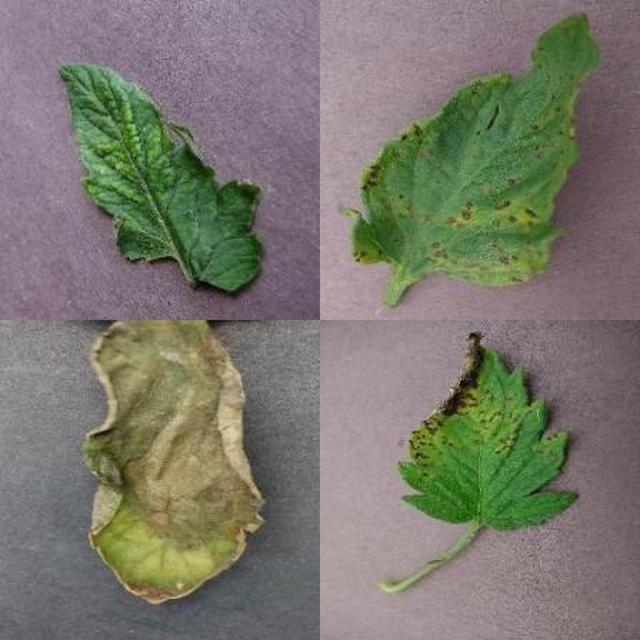Mosaic Virus Leaf: (229, 216, 640, 640)
